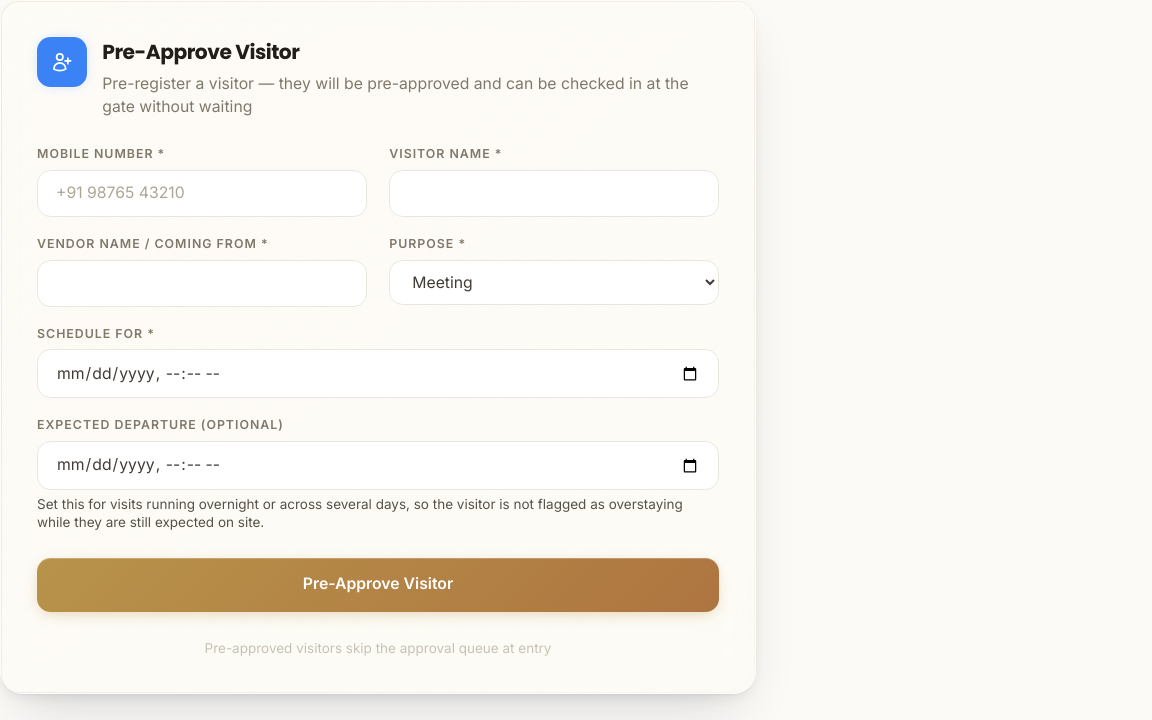
Scenario: PreApproveForm submission › shows the entry pass QR in the success popup after pre-approval
Type "9876543210" into the field with placeholder "+91 98765 43210" at [202, 193], box [37,170,367,217]
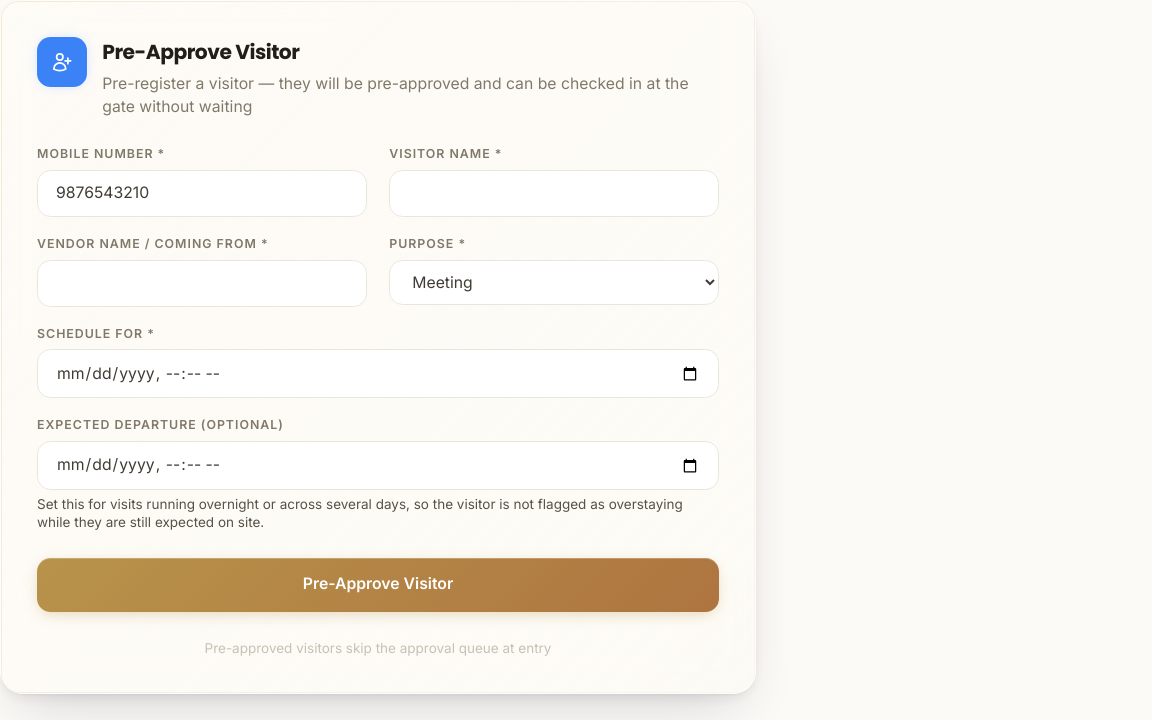
Type "Test Visitor" into the field below "Visitor Name *" at [554, 193], box [389,170,719,217]
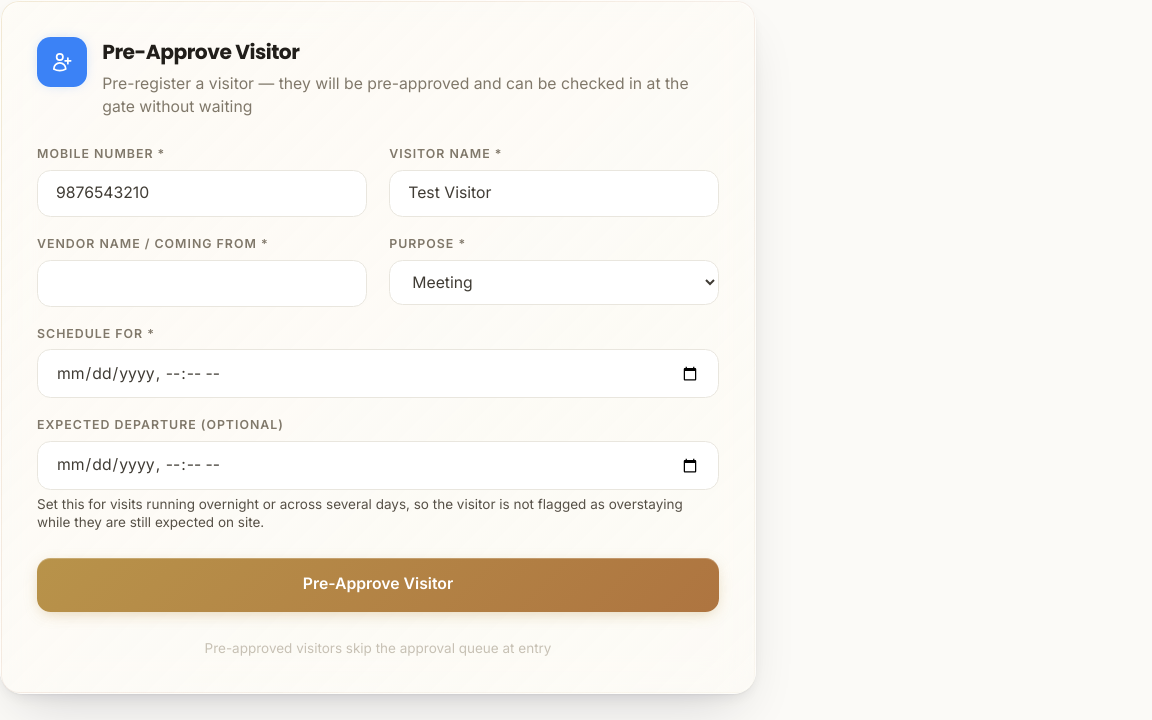
Type "Test Corp" into the field below "Vendor Name / Coming from *" at [202, 283], box [37,260,367,306]
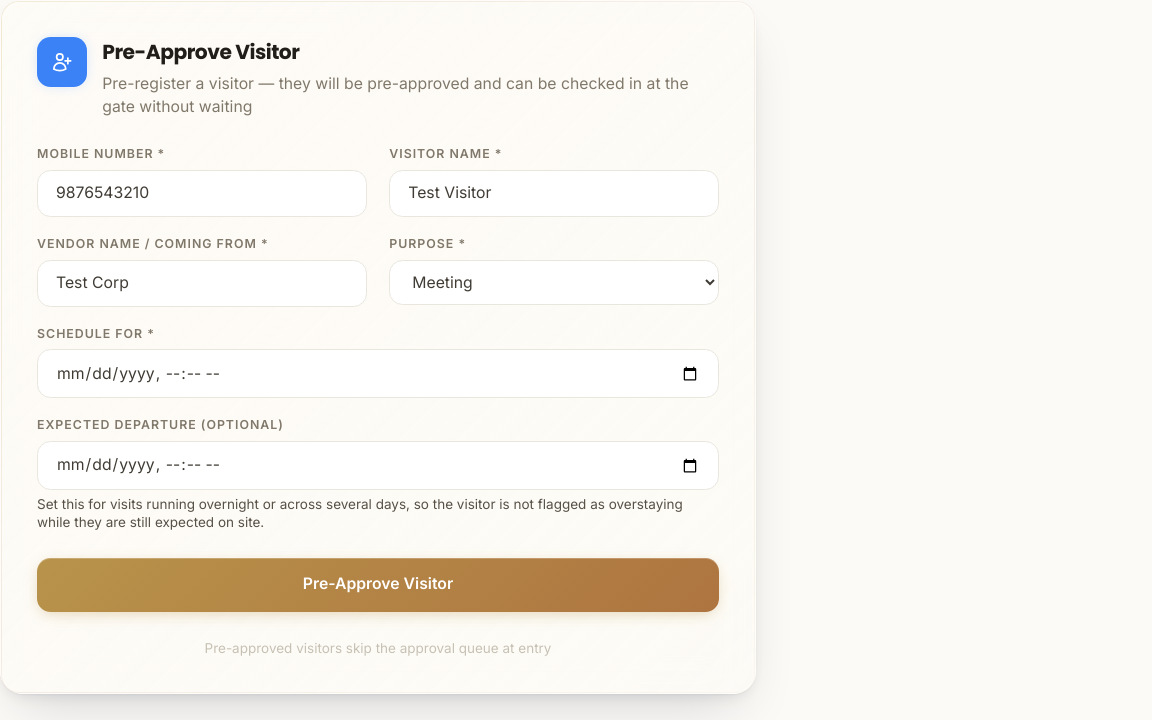
Type "2026-08-05T10:00" into the field labelled "Schedule for *" at [378, 374], box [37,349,719,398]
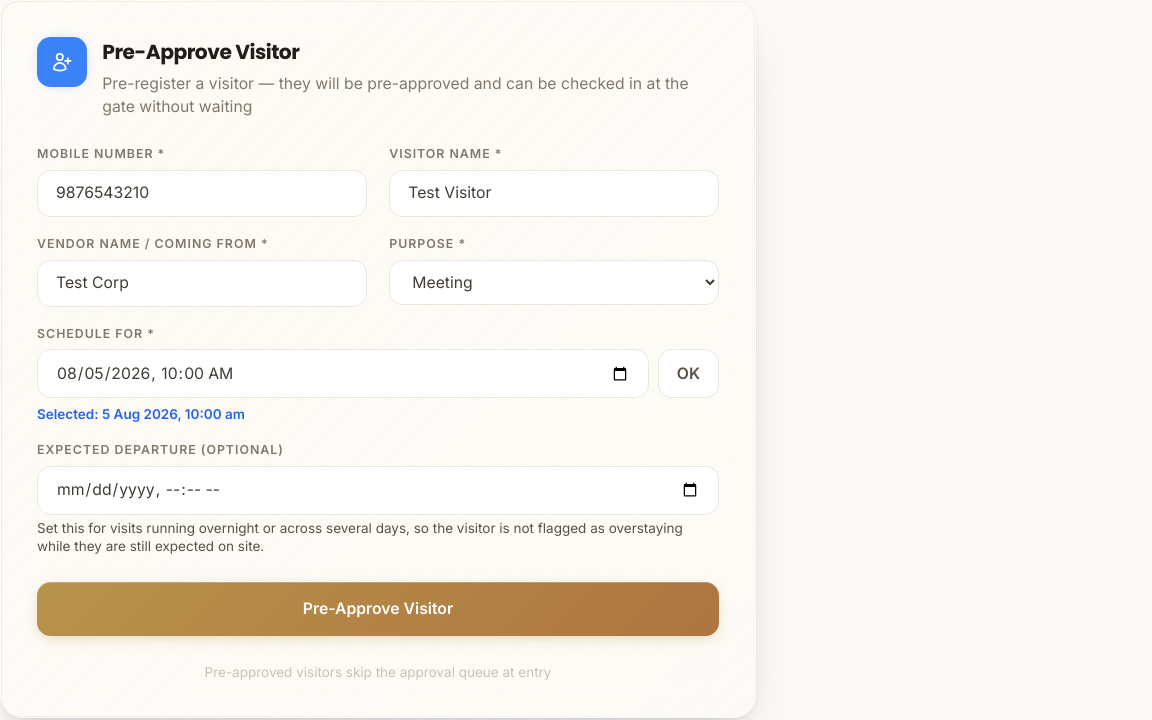
Click the button "Pre-Approve Visitor" at [378, 609], box [37,582,719,636]
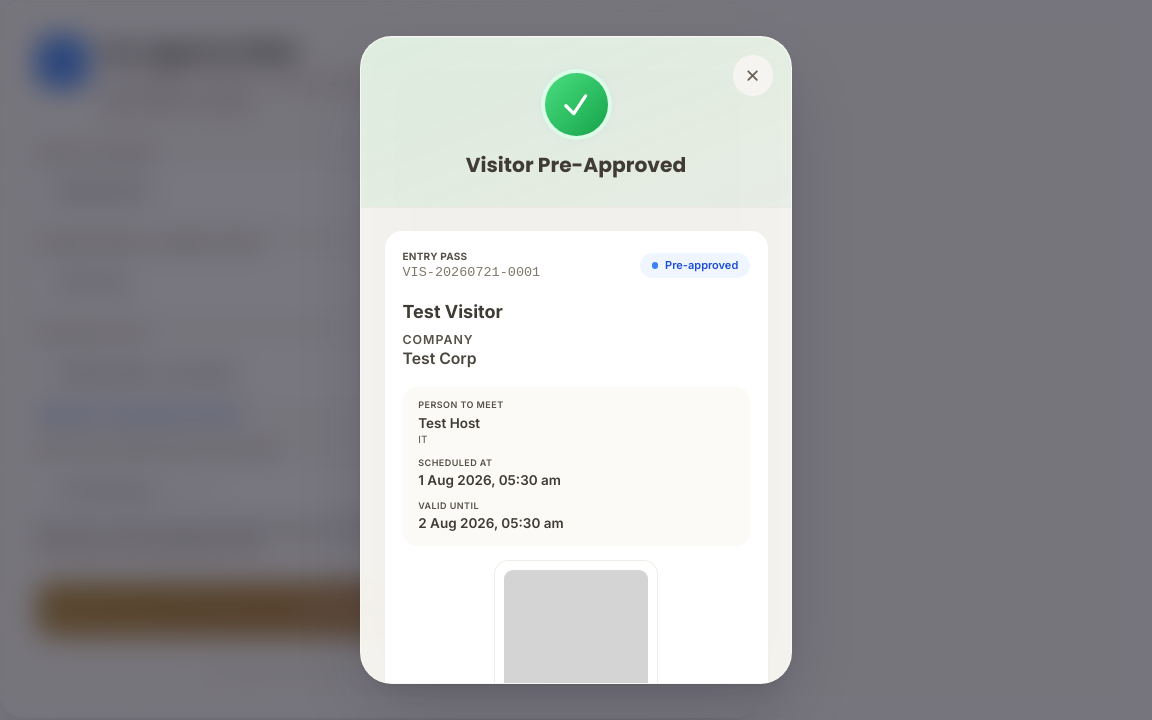
Expected: the heading "Visitor Pre-Approved" is shown, [466,151,686,179]
Expected: the picture with alt text "Entry pass QR code" is shown, [504,570,648,683]
